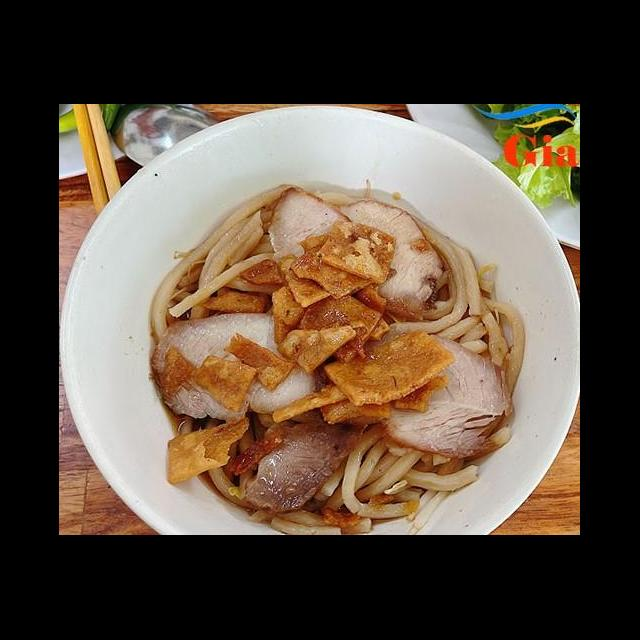banh da: (320, 326, 460, 409), (270, 276, 394, 368), (316, 372, 454, 431), (292, 232, 386, 300), (164, 414, 252, 486), (314, 216, 402, 288), (224, 332, 300, 394), (190, 352, 260, 418), (274, 250, 348, 310), (200, 282, 272, 318)
mi: (389, 212, 528, 404), (269, 418, 486, 536), (146, 180, 294, 344), (204, 416, 274, 509)
thit heo: (354, 326, 516, 468), (146, 306, 326, 426), (232, 406, 372, 516), (328, 196, 450, 322), (266, 184, 380, 290)
